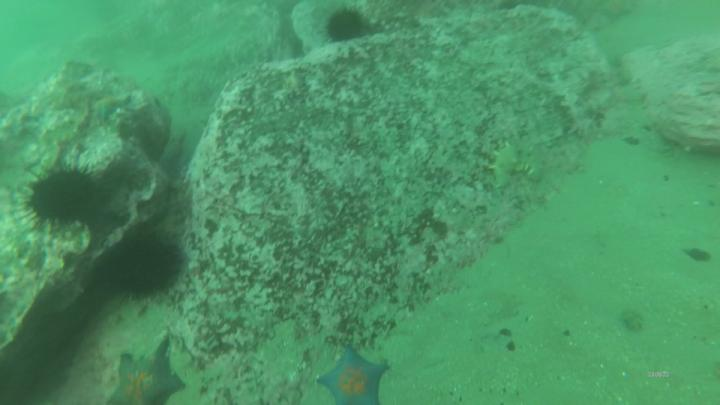echinus: (26, 166, 108, 229), (110, 232, 185, 295), (321, 9, 370, 42)
holothurian: (486, 138, 548, 195)
starfish: (319, 342, 391, 405), (114, 346, 183, 405)
